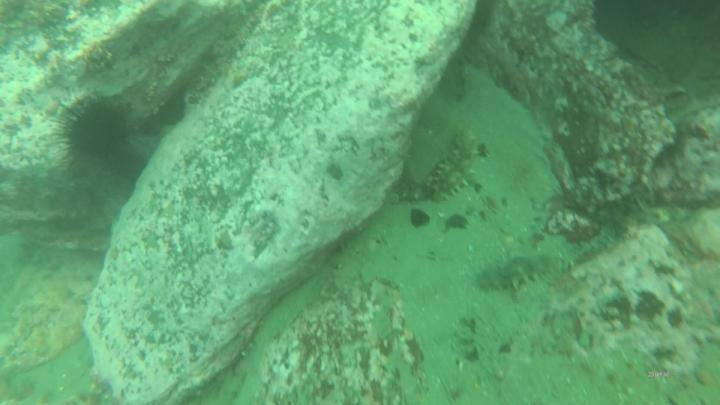echinus: (63, 92, 133, 172)
holothurian: (420, 125, 475, 205), (482, 252, 571, 292)
